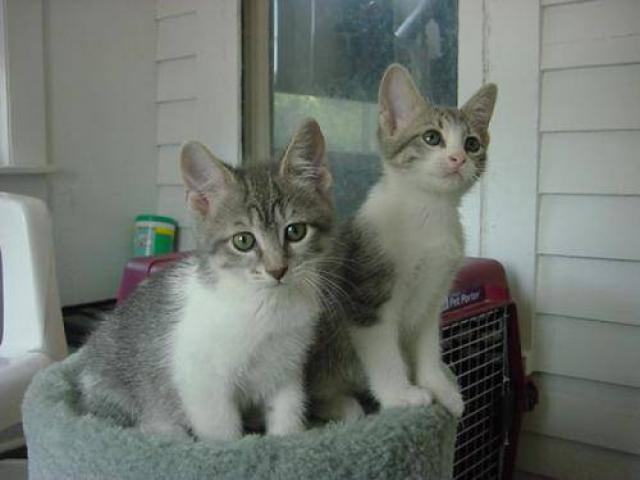cat: (45, 125, 389, 450), (331, 59, 501, 434)
